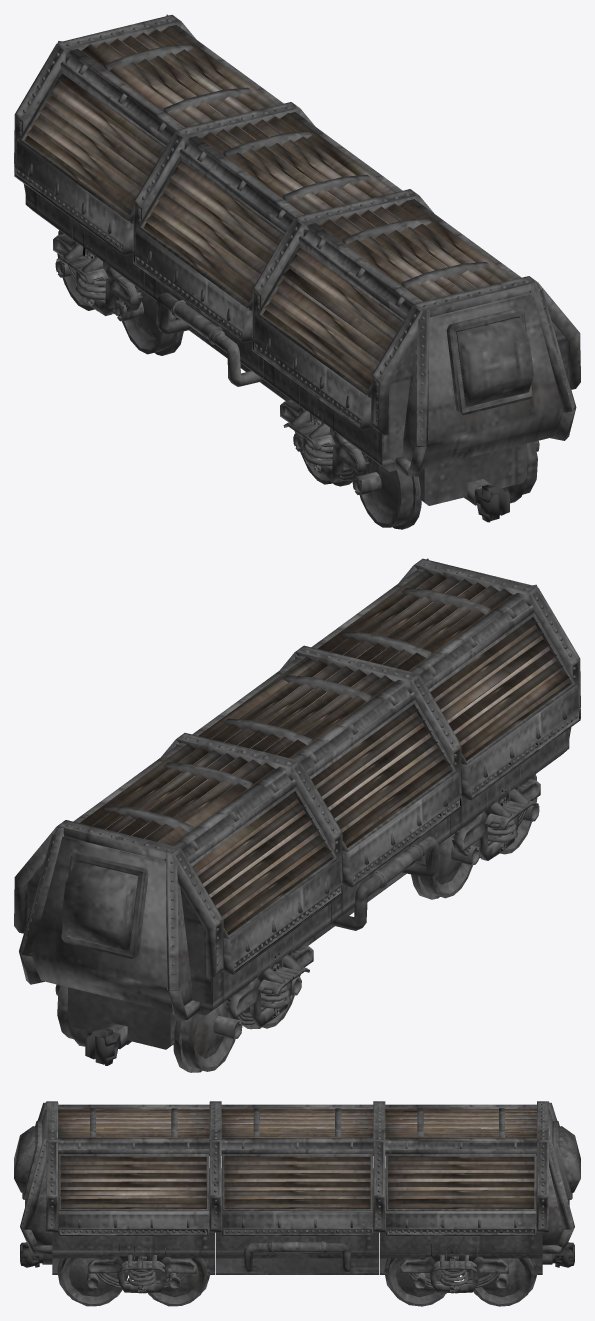
Rendered from cargo-wagon.glb.
3 views of the same model, one above another, from view 1: azimuth 30°, elevation 25°; view 2: azimuth 150°, elevation 25°; view 3: azimuth 270°, elevation 25° (orthographic). The views are drawn at different scales.
Visible parts, largest first — view 1: body, anim_wheel_rail.002, anim_wheel_rail.003; view 2: body, anim_wheel_rail.001, anim_wheel_rail; view 3: body, anim_wheel_rail.002, anim_wheel_rail.001, anim_wheel_rail.003, anim_wheel_rail.
Part boxes in pixels (bbox=[...]): body: bbox=[14, 14, 580, 522]; anim_wheel_rail.002: bbox=[352, 440, 539, 529]; anim_wheel_rail.003: bbox=[115, 285, 183, 355]; body: bbox=[14, 558, 580, 1065]; anim_wheel_rail.001: bbox=[55, 984, 242, 1072]; anim_wheel_rail: bbox=[411, 830, 479, 899]; body: bbox=[14, 1101, 580, 1293]; anim_wheel_rail.002: bbox=[57, 1258, 128, 1306]; anim_wheel_rail.001: bbox=[466, 1258, 537, 1306]; anim_wheel_rail.003: bbox=[384, 1258, 452, 1306]; anim_wheel_rail: bbox=[142, 1258, 210, 1306].
Size of the model in its own units: 2.15 by 2.24 by 6.94.
1 material, 1 textured.
